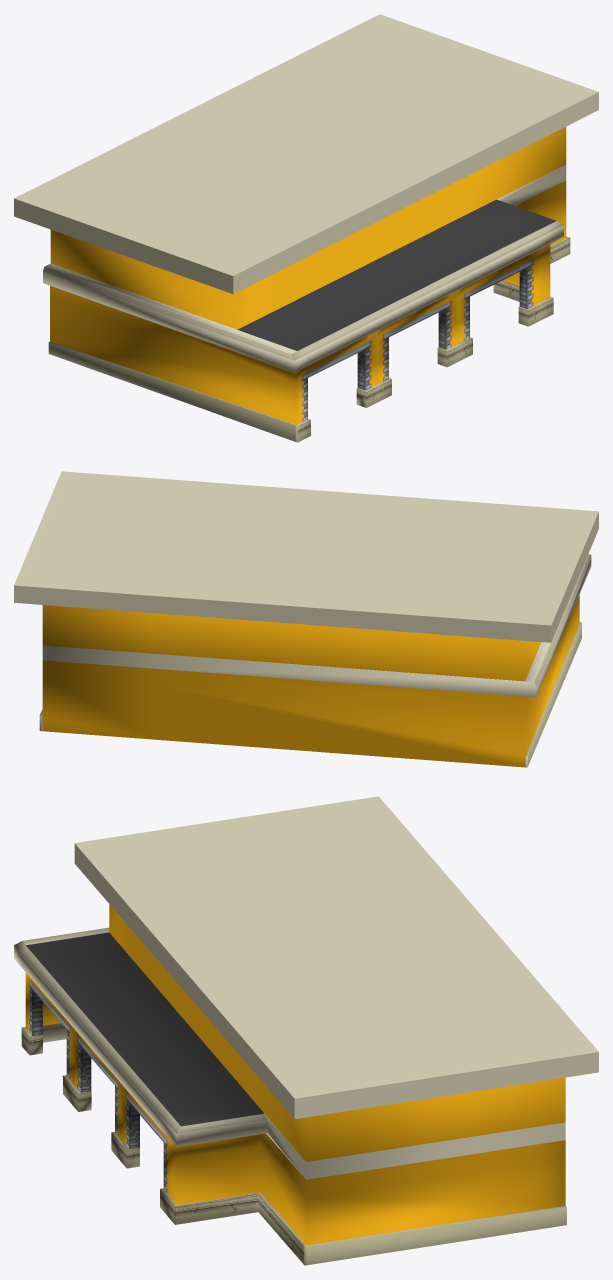
Rendered from garage.glb.
3 renders of one model, top to bottom at view 1: azimuth 30°, elevation 25°; view 2: azimuth 150°, elevation 25°; view 3: azimuth 270°, elevation 25°, orthographic. The views are drawn at different scales.
Parts seen in each view (by area): view 1: Cube; view 2: Cube; view 3: Cube.
Boxes of the visible parts, x1=… form: Cube: x1=14, y1=14, x2=598, y2=442; Cube: x1=14, y1=471, x2=598, y2=767; Cube: x1=14, y1=796, x2=598, y2=1265.
Size of the model in its own units: 15.88 by 4.42 by 12.98.
Materials: 1 (1 with a texture image).
